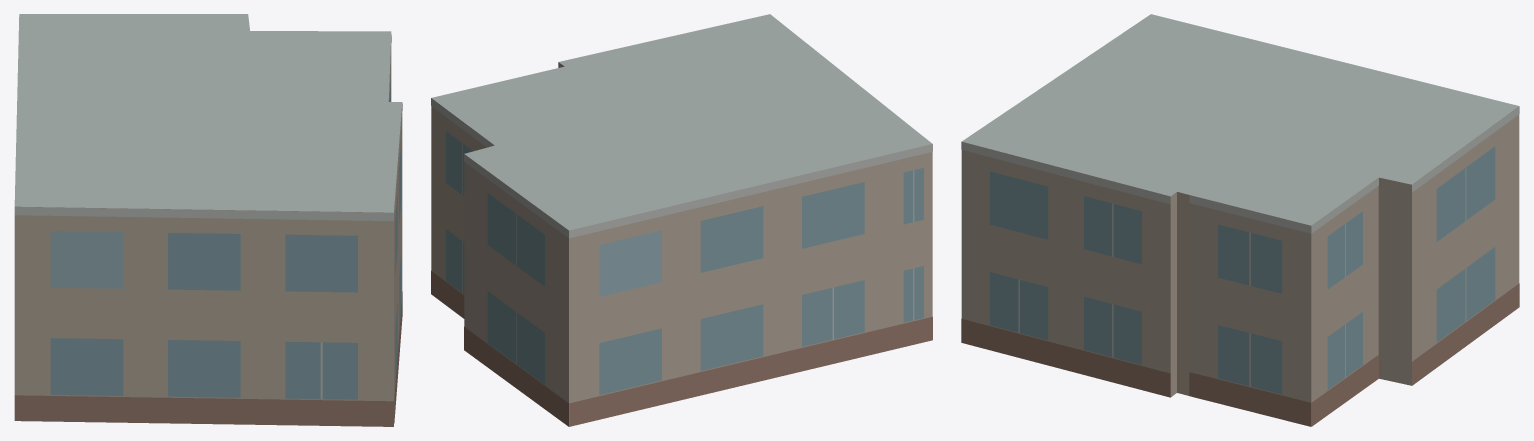
File: survey-upis-32975436.glb
3 views of the same model, side by side, from view 1: azimuth 30°, elevation 25°; view 2: azimuth 150°, elevation 25°; view 3: azimuth 270°, elevation 25° (orthographic). The views are drawn at different scales.
Visible parts, largest first — view 1: survey-upis-32975436.tmp; view 2: survey-upis-32975436.tmp; view 3: survey-upis-32975436.tmp.
Boxes of the visible parts, x1,y1,x2,y2 form: survey-upis-32975436.tmp: (14,14,402,426); survey-upis-32975436.tmp: (431,14,932,426); survey-upis-32975436.tmp: (961,14,1519,426).
Size of the model in its own units: 13.78 by 6.1 by 15.34.
